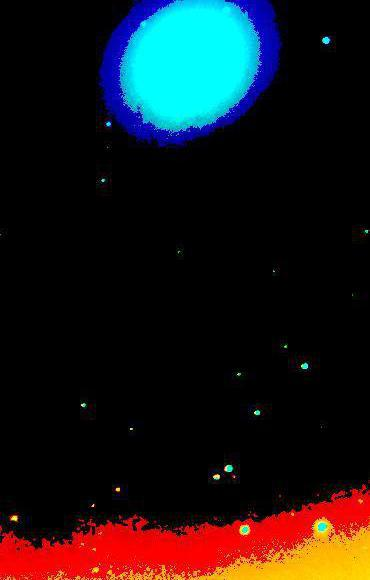star: (246, 326, 276, 356)
